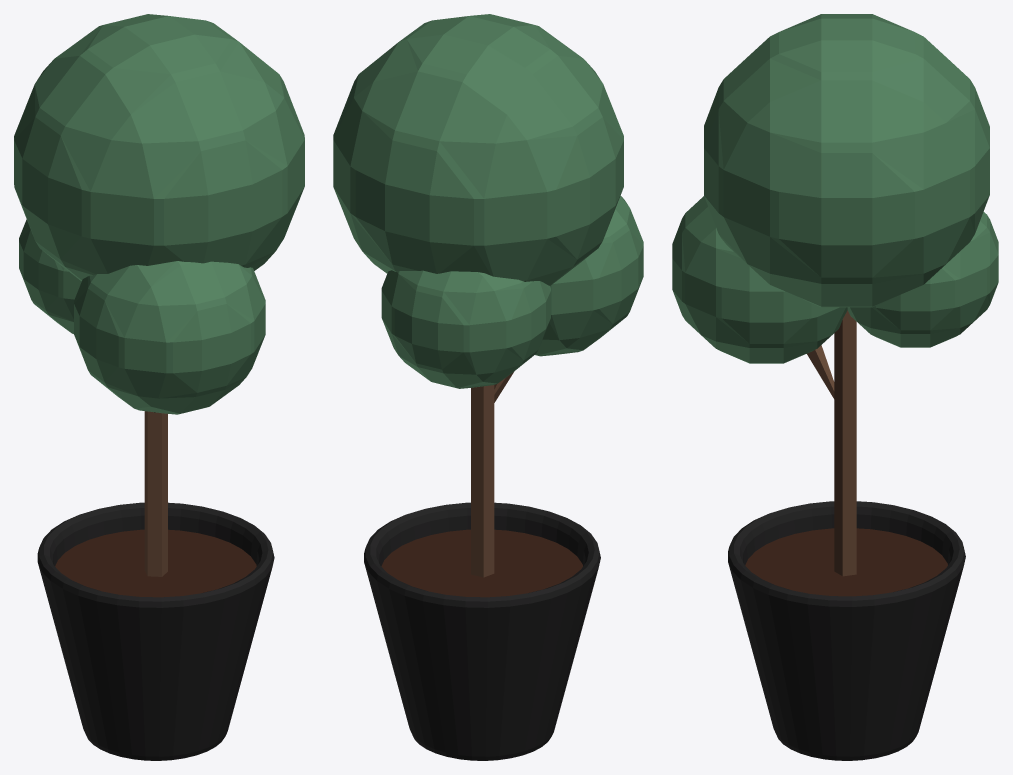
The model's file is plant-high.gltf.
3 views of the same model, side by side, from view 1: azimuth 30°, elevation 25°; view 2: azimuth 150°, elevation 25°; view 3: azimuth 270°, elevation 25° (orthographic).
Visible parts, largest first — view 1: Mball.000, Cylinder, Mball.003, Cylinder.001, Mball.002; view 2: Mball.000, Cylinder, Mball.002, Mball.003, Cylinder.001; view 3: Mball.000, Cylinder, Mball.003, Mball.002, Cylinder.001, Cylinder.002.
Part boxes in pixels (x1,y1,x2,y2): Mball.000: [14, 14, 304, 281]; Cylinder: [37, 502, 274, 760]; Mball.003: [74, 261, 265, 414]; Cylinder.001: [144, 411, 167, 576]; Mball.002: [19, 219, 81, 333]; Mball.000: [333, 14, 623, 285]; Cylinder: [364, 502, 600, 760]; Mball.002: [381, 270, 550, 388]; Mball.003: [535, 195, 643, 356]; Cylinder.001: [471, 385, 494, 577]; Mball.000: [704, 14, 989, 307]; Cylinder: [728, 501, 965, 760]; Mball.003: [672, 196, 847, 363]; Mball.002: [847, 212, 998, 347]; Cylinder.001: [834, 310, 856, 576]; Cylinder.002: [807, 345, 834, 398].
Bounding box in the file's own units: 0.5124 × 1.38 × 0.5793.
